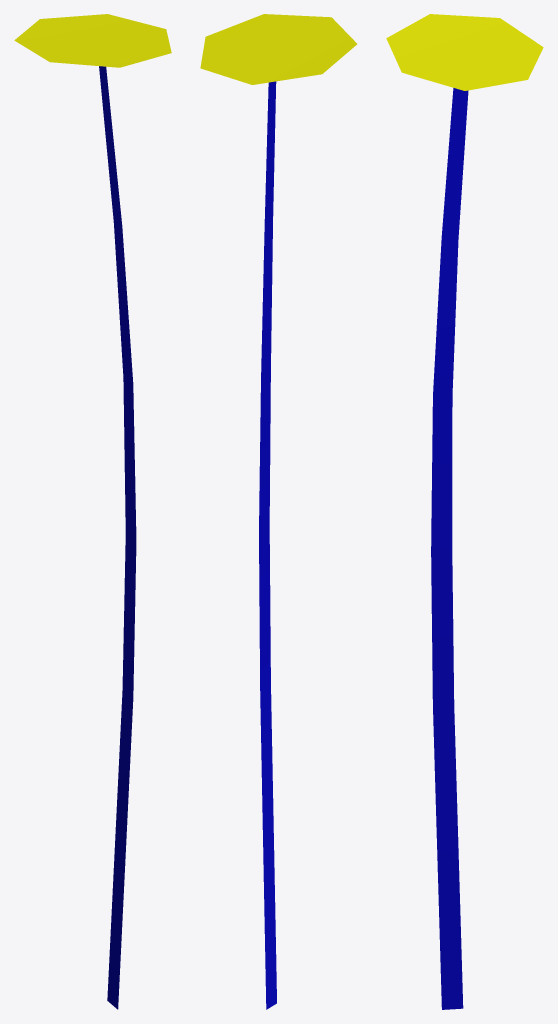
The model's file is flower_twig_A.fbx.
The picture shows the model from 3 angles, left to right: view 1: azimuth 30°, elevation 25°; view 2: azimuth 150°, elevation 25°; view 3: azimuth 270°, elevation 25°; orthographic projection.
Visible parts, largest first — view 1: flower_twig_A; view 2: flower_twig_A; view 3: flower_twig_A.
Part boxes in pixels (<box>): flower_twig_A: <box>14,14,171,1009</box>; flower_twig_A: <box>200,14,357,1009</box>; flower_twig_A: <box>386,14,543,1009</box>.
Bounding box in the file's own units: 5.85 × 40.41 × 6.
